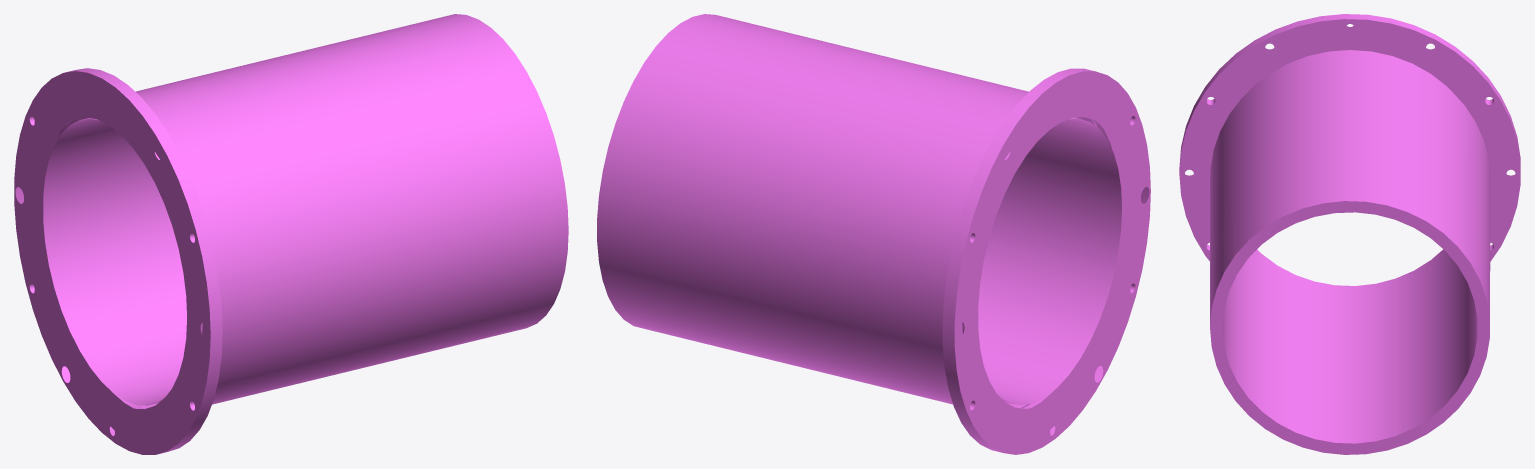
File: body_5.obj
3 views of the same model, side by side, from view 1: azimuth 30°, elevation 25°; view 2: azimuth 150°, elevation 25°; view 3: azimuth 270°, elevation 25° (orthographic). The views are drawn at different scales.
Parts seen in each view (by area): view 1: Body_1; view 2: Body_1; view 3: Body_1.
Part boxes in pixels (x1=…): Body_1: x1=14, y1=14, x2=568, y2=454; Body_1: x1=597, y1=14, x2=1150, y2=454; Body_1: x1=1179, y1=14, x2=1520, y2=454.
Size of the model in its own units: 0.375 by 0.3398 by 0.3396.
